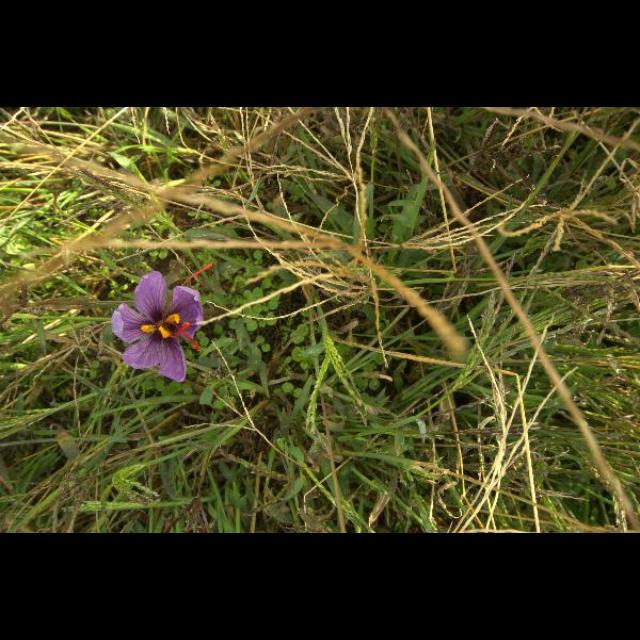flower: (111, 264, 213, 384)
